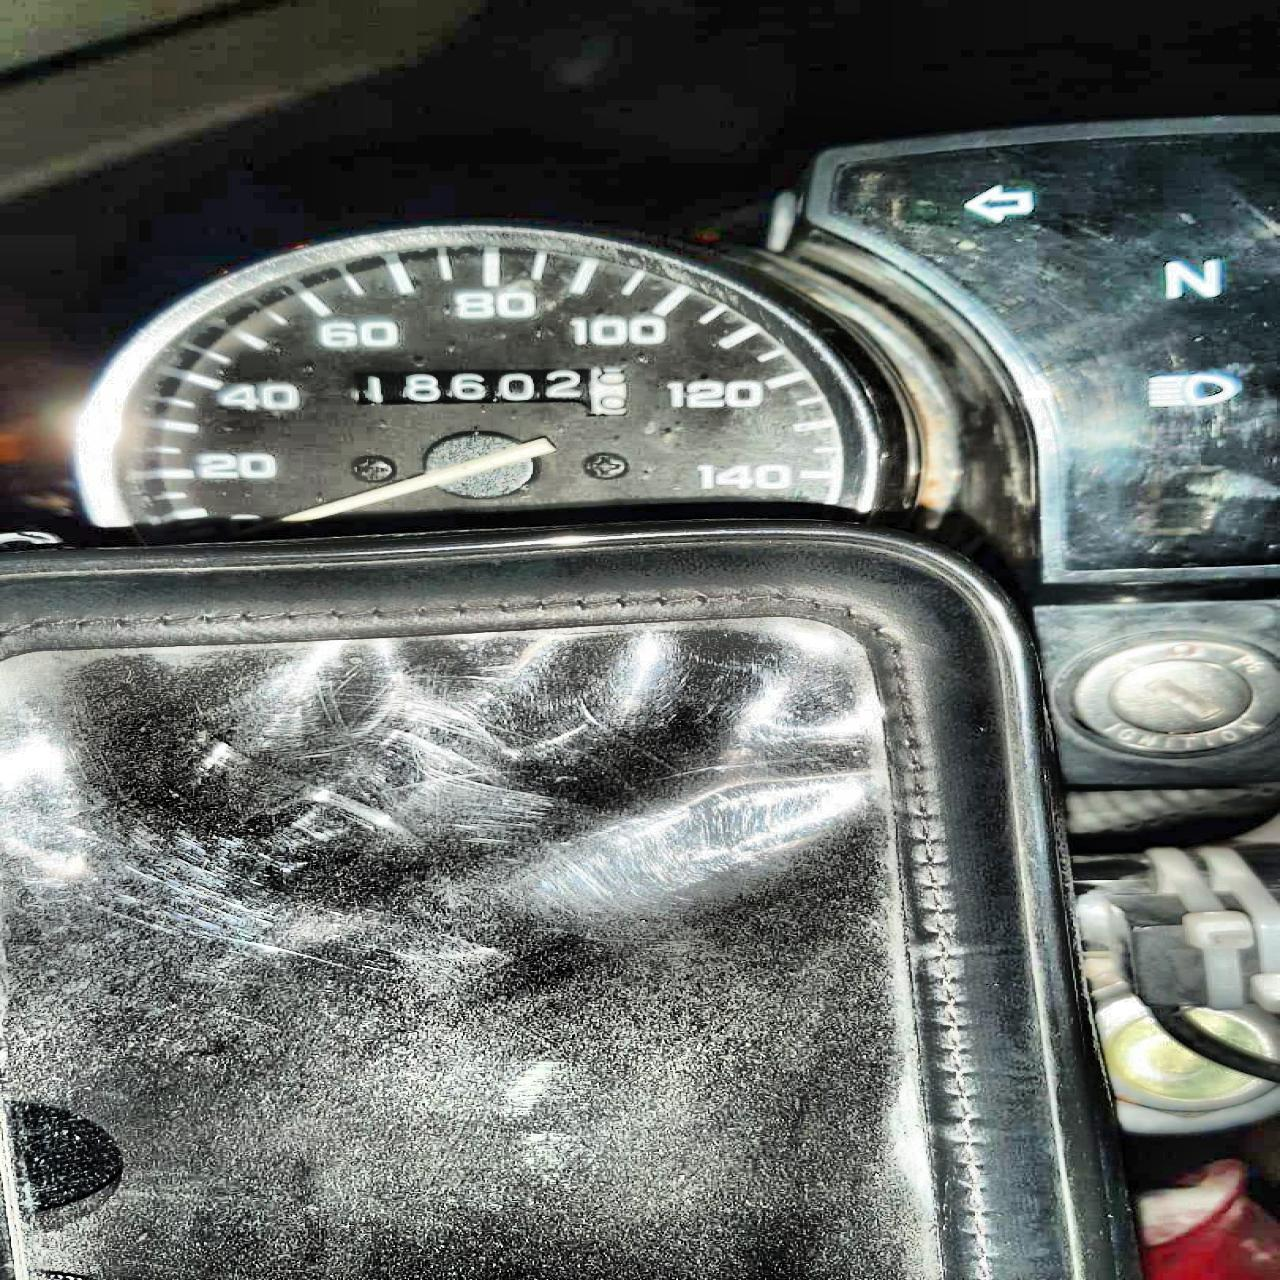0: (495, 373, 535, 402)
1: (358, 370, 389, 408)
2: (540, 369, 584, 403)
6: (449, 370, 486, 408)
8: (400, 373, 438, 407), (595, 366, 629, 392)
9: (595, 395, 627, 417)
odometer: (345, 366, 636, 420)
